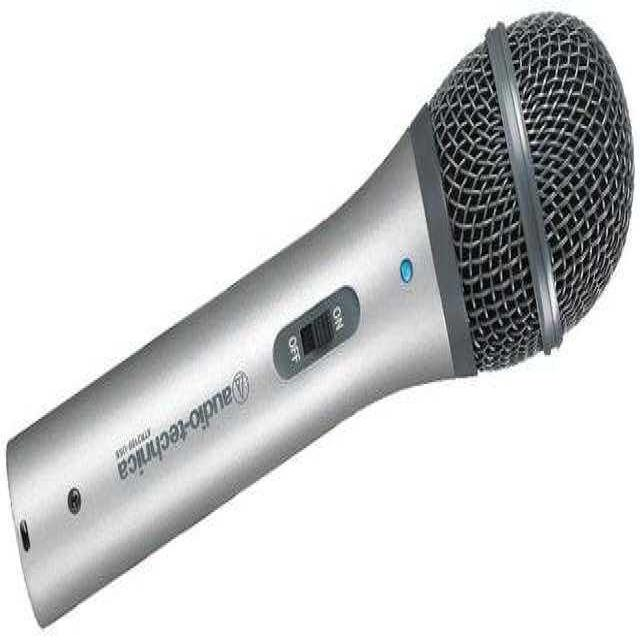microphone: (9, 0, 630, 621)
